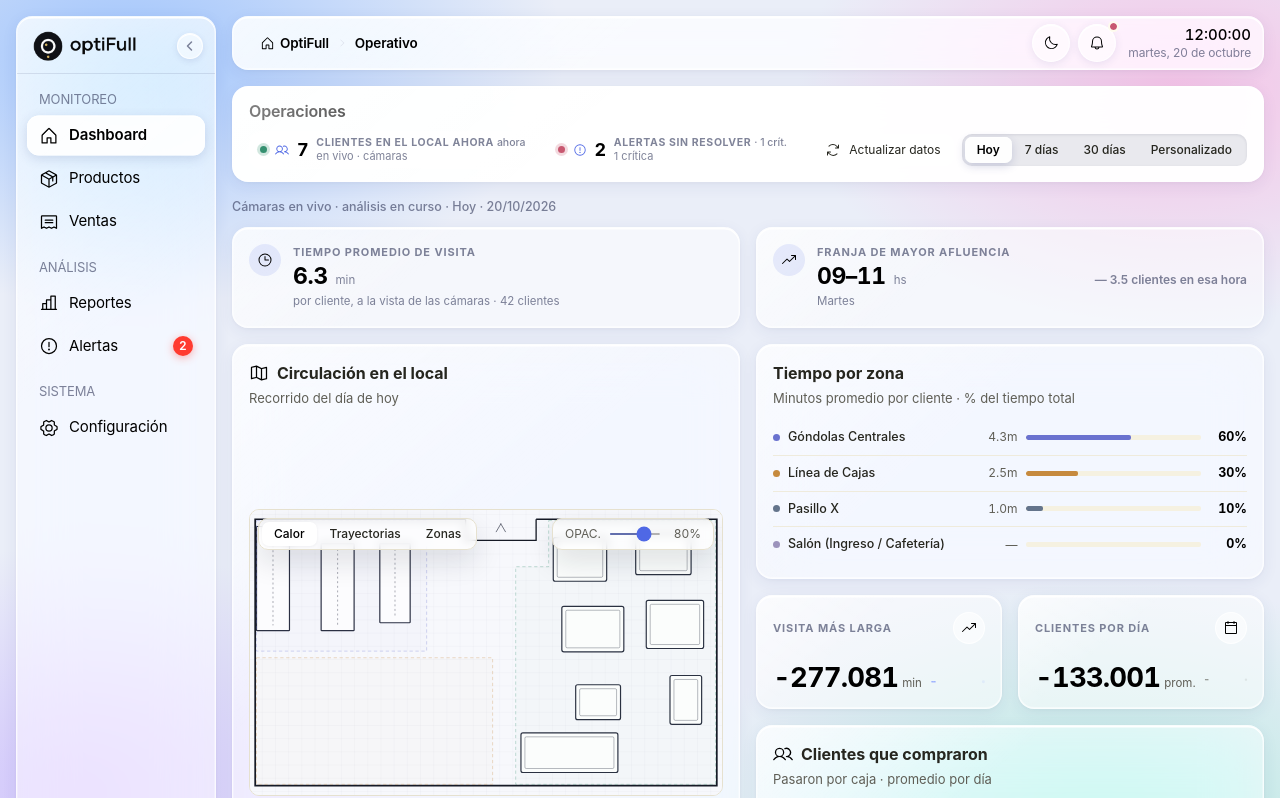
permisos por rol › el administrador navega por todas las secciones desde el menu
Expected: the text "Operativo" is shown, x1=355 y1=35 x2=418 y2=51
Click the link "Productos".
click(90, 178)  # box x1=39 y1=168 x2=140 y2=189
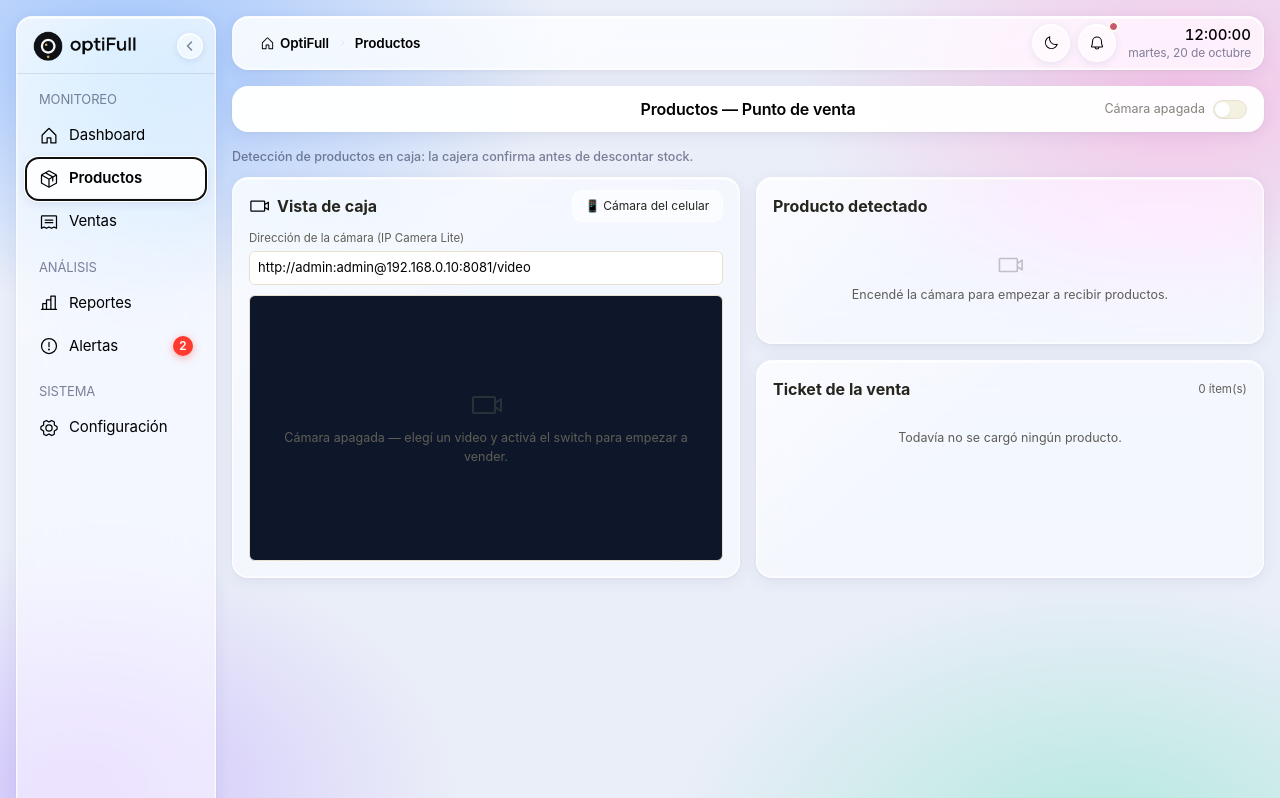
Expected: the 1st text "Productos" is shown, x1=355 y1=35 x2=420 y2=51
Click the link "Ventas".
click(78, 221)  # box x1=39 y1=211 x2=117 y2=232
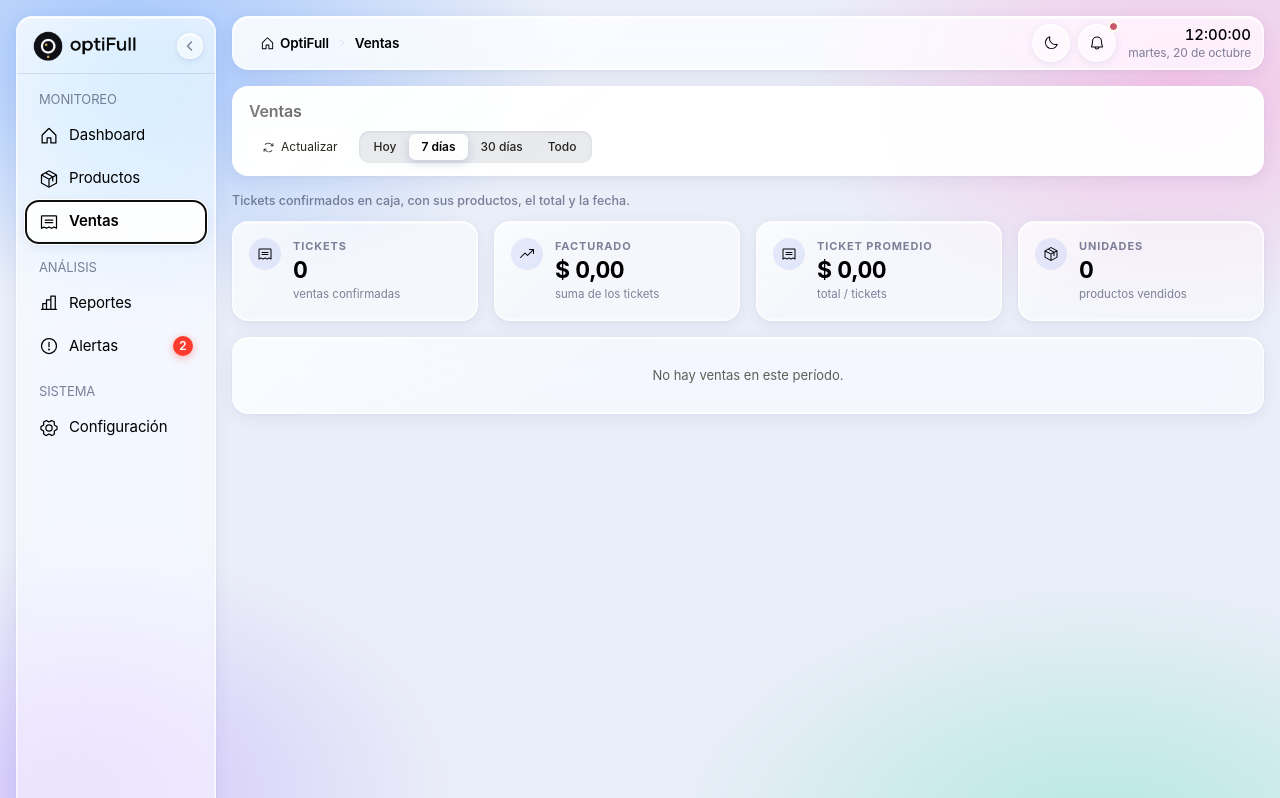
Expected: the 1st text "Ventas" is shown, x1=355 y1=35 x2=399 y2=51
Click the link "Reportes".
click(85, 303)  # box x1=39 y1=293 x2=132 y2=313
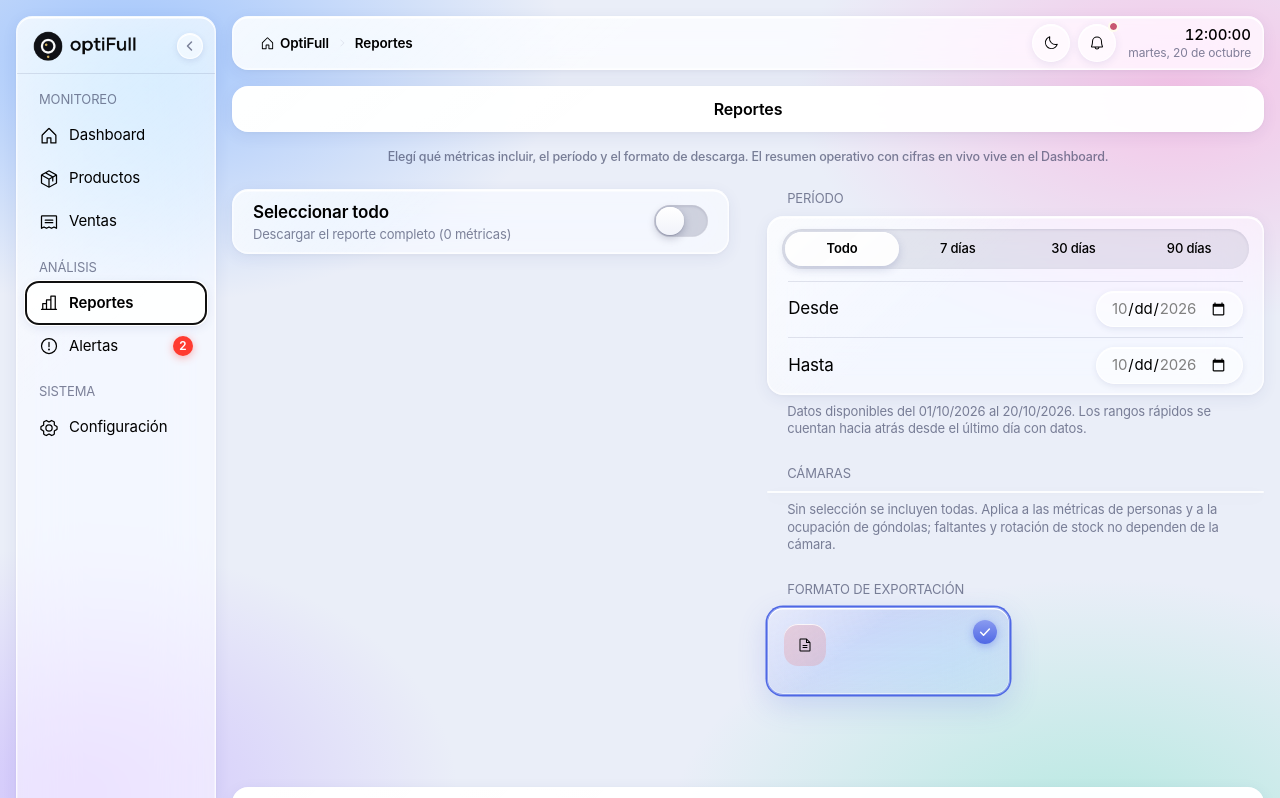
Expected: the 1st text "Reportes" is shown, x1=355 y1=35 x2=413 y2=51
Click the text "Alertas".
click(94, 345)  # box x1=69 y1=336 x2=118 y2=355
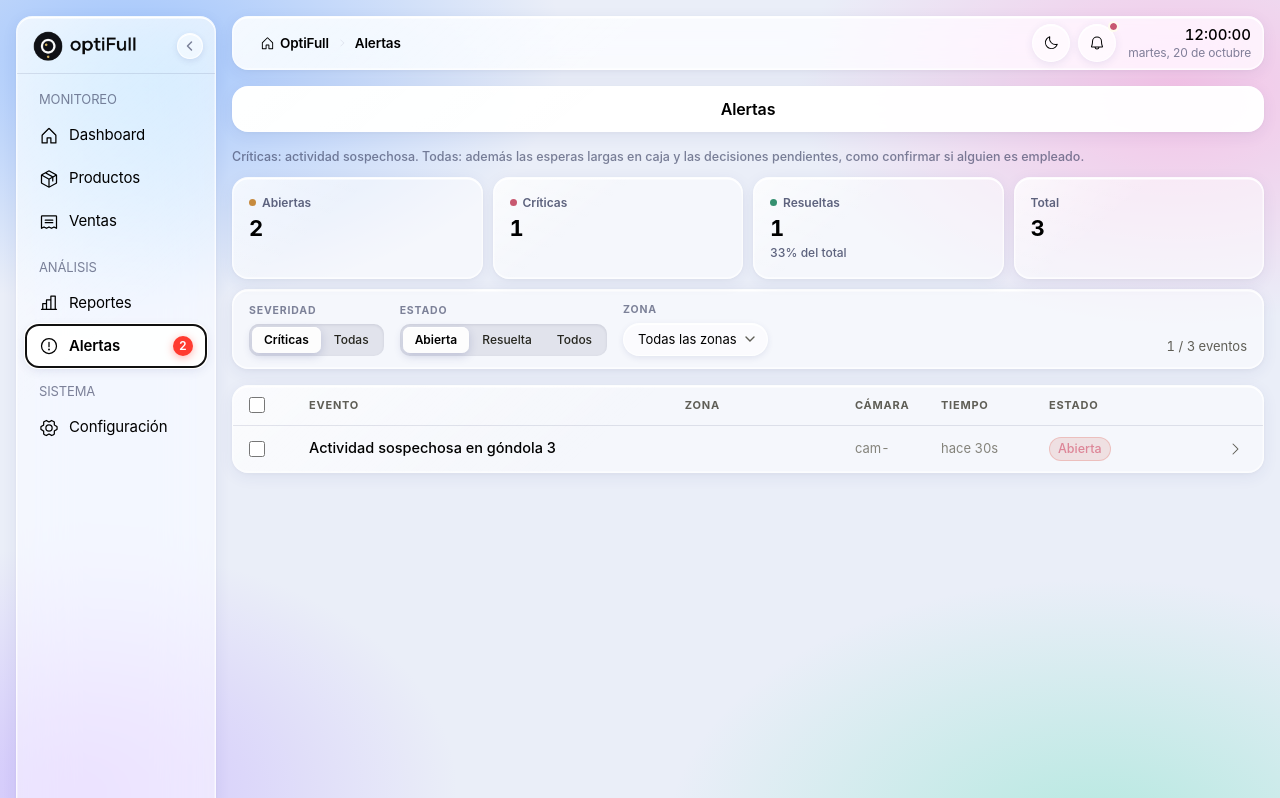
Expected: the 1st text "Alertas" is shown, x1=355 y1=35 x2=401 y2=51
Click the link "Configuración".
click(103, 427)  # box x1=39 y1=417 x2=167 y2=438
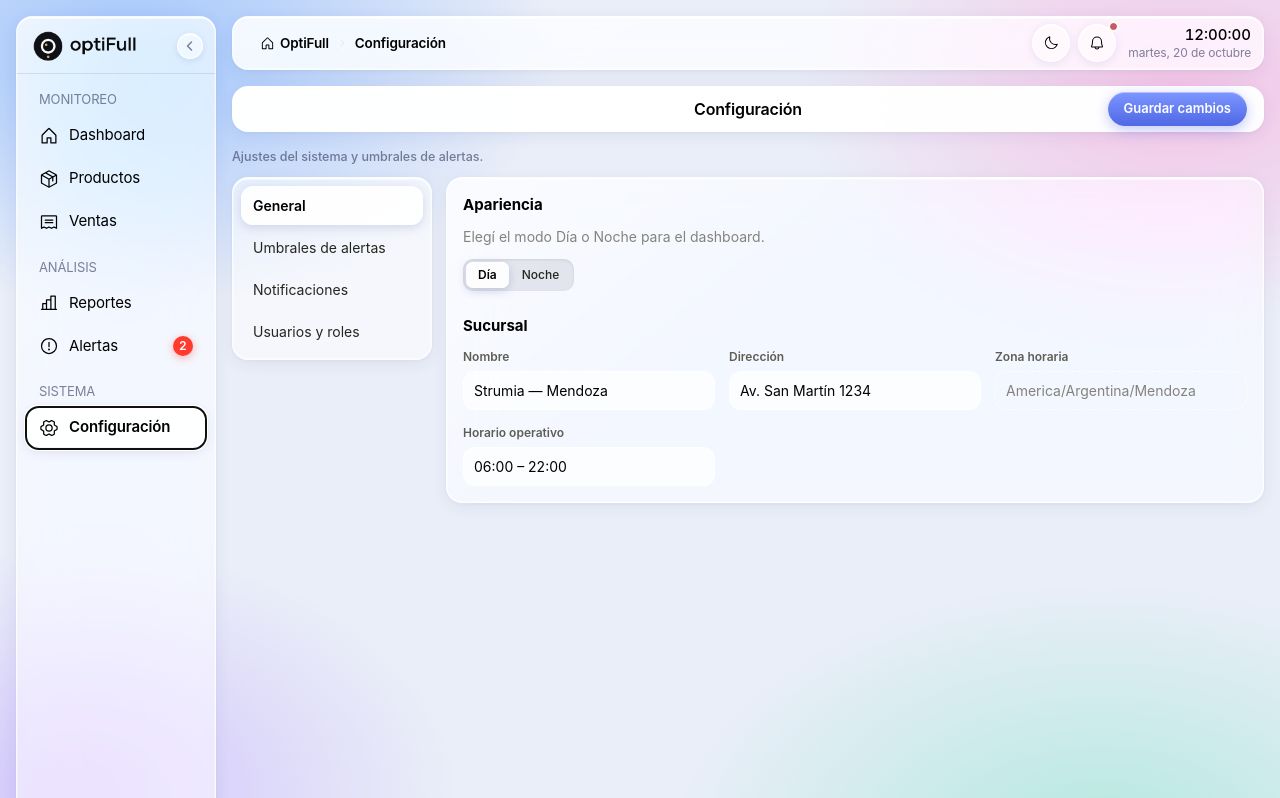
Expected: the 1st text "Configuración" is shown, x1=355 y1=35 x2=446 y2=51
Click the link "Dashboard".
click(92, 135)  # box x1=39 y1=125 x2=145 y2=146
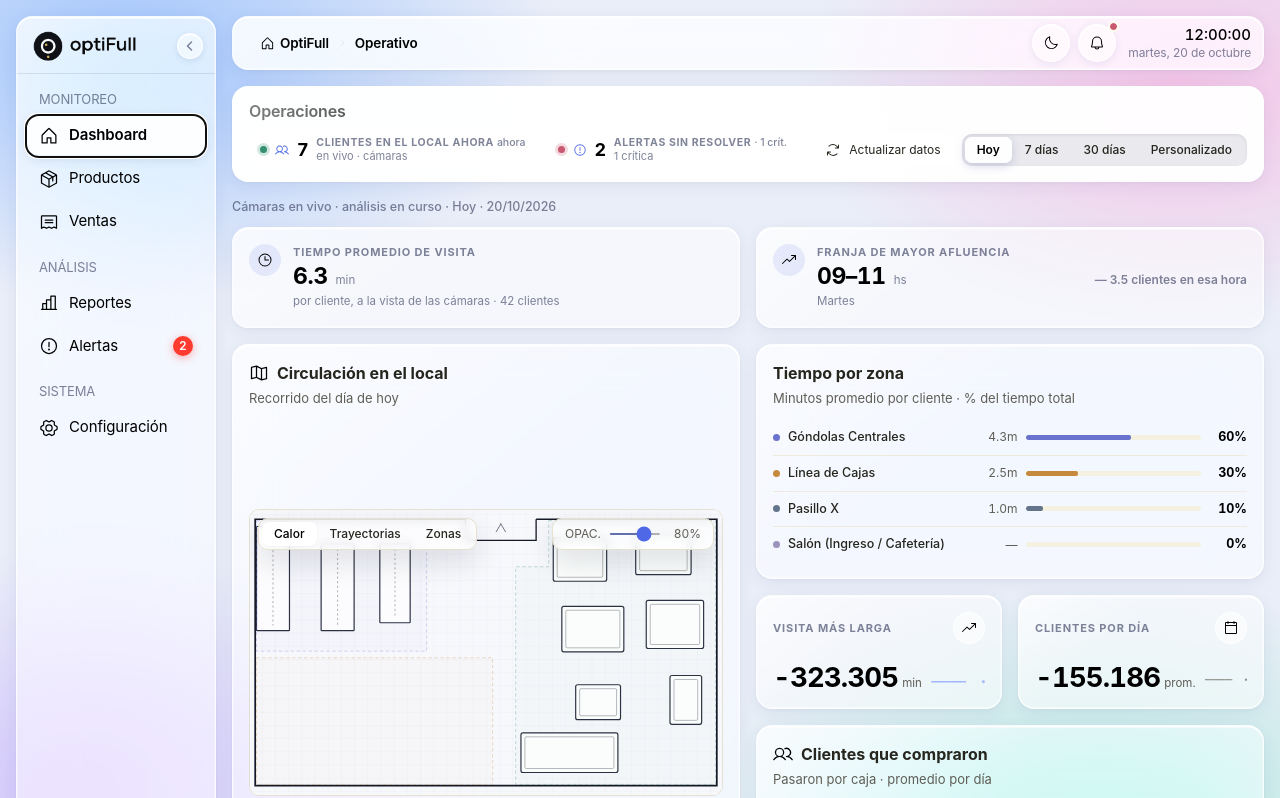
Expected: the text "Operativo" is shown, x1=355 y1=35 x2=418 y2=51
